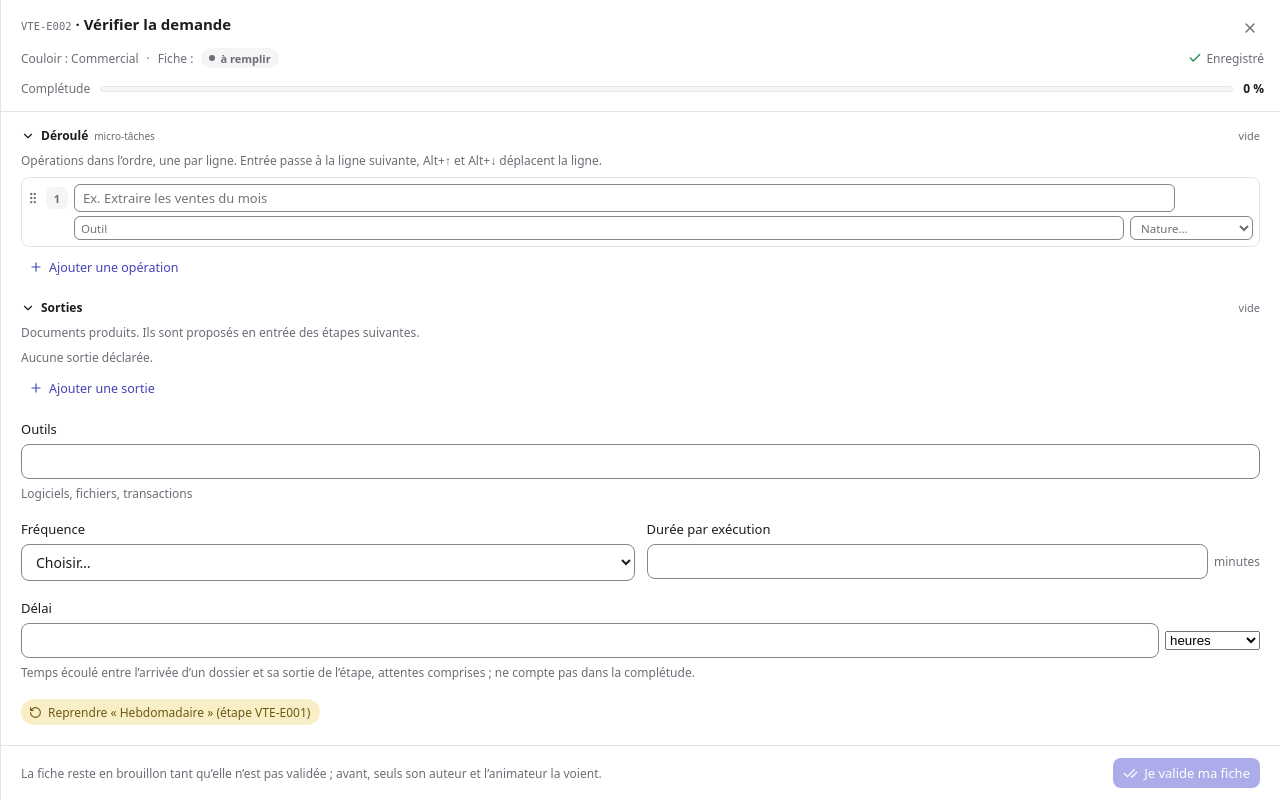
Test case: the frequency and the duration (B-4-26 to B-4-28) › while it is empty, « Reprendre « X » (étape CODE) » takes the frequency of another step, then goes
The width and height of the screenshot is (1280, 800).
(page scrolled)
Click the button "Reprendre « Hebdomadaire » (étape VTE-E001)": (171,712) [21,699,320,725]
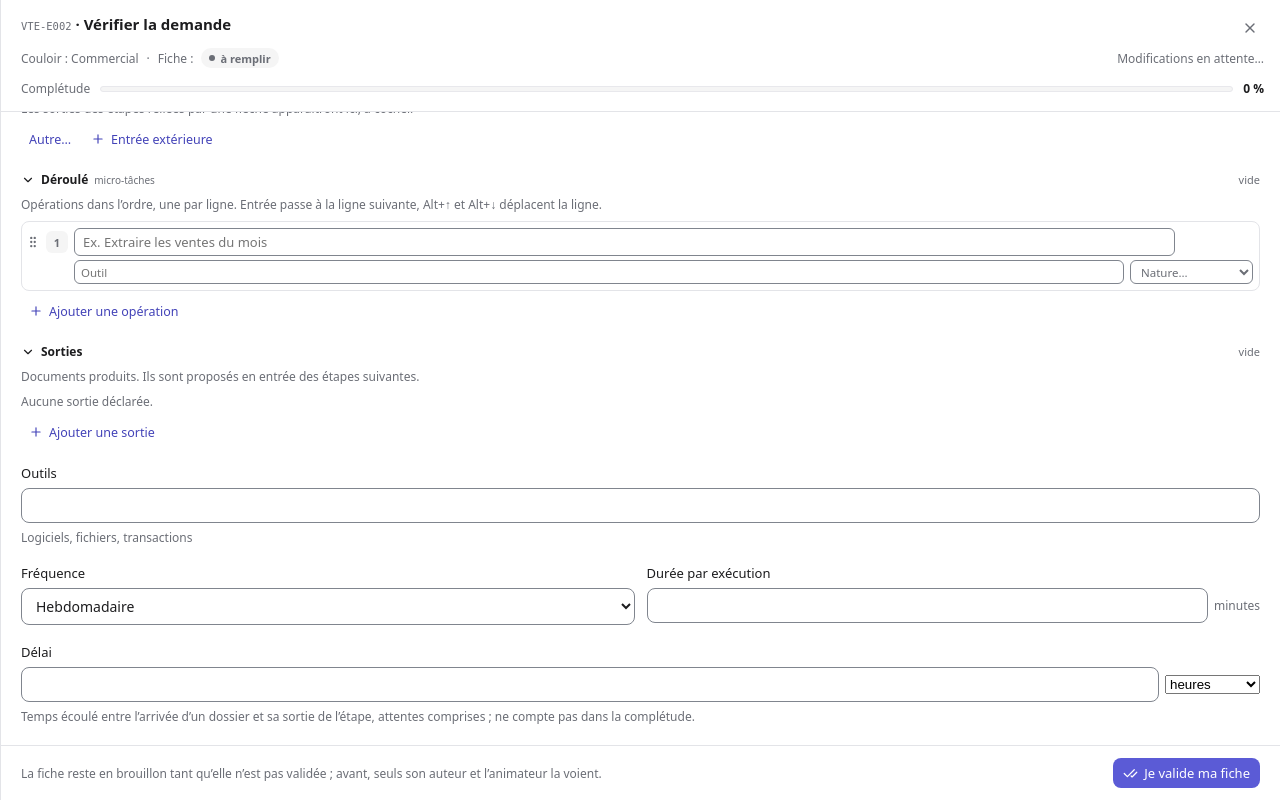
Expected: the button with test id "sheet-frequency-resume" is gone
Expected: the dropdown labelled "Fréquence" shows "Hebdomadaire", [21,588,634,625]
